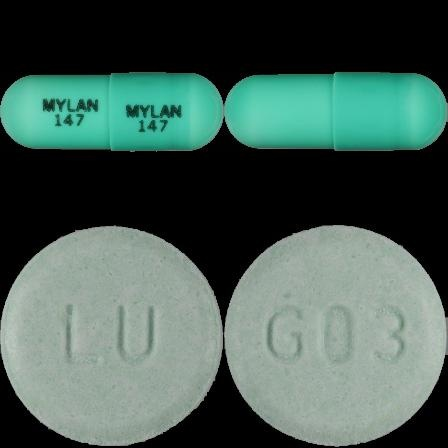55289-663: (0, 0, 224, 224)
